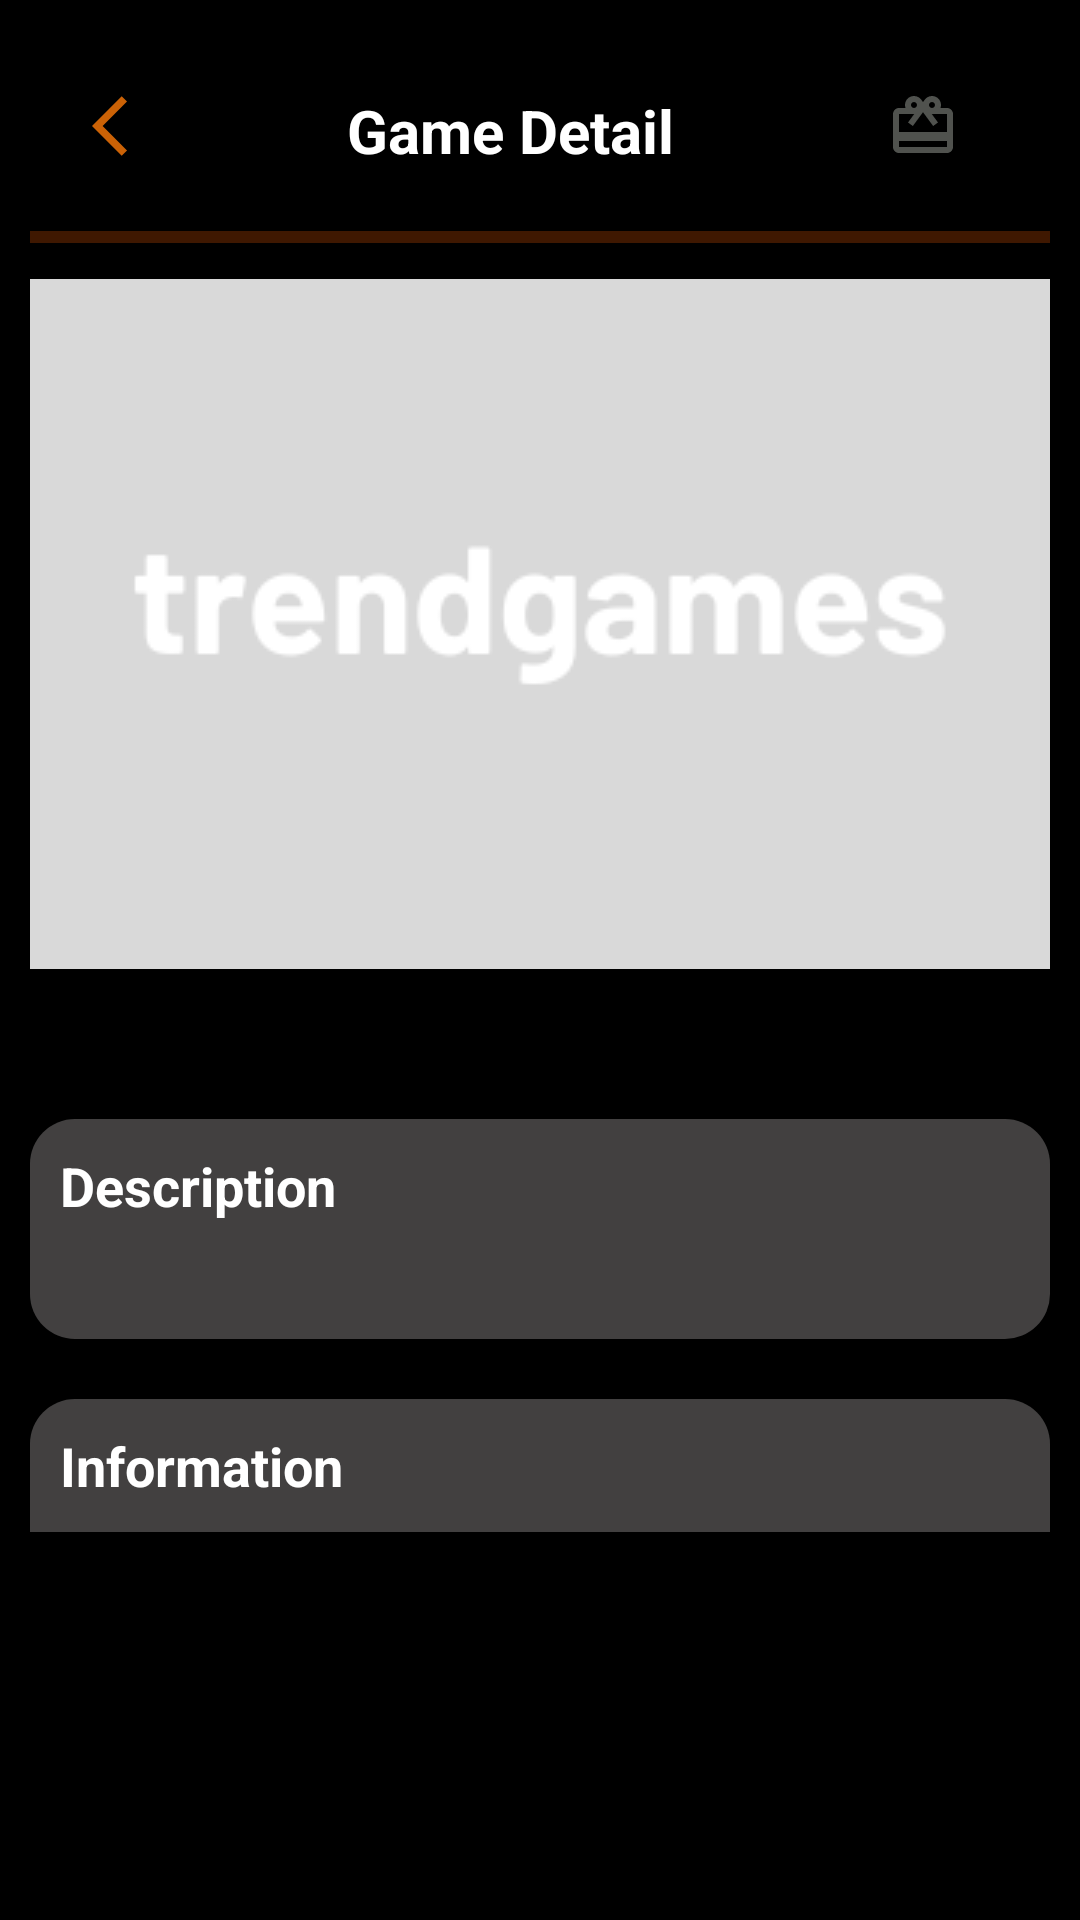

Icon click points for this 1080px x 1920px phone screenshot, format (x=x, y=y):
arrow back: (x=109, y=126)
